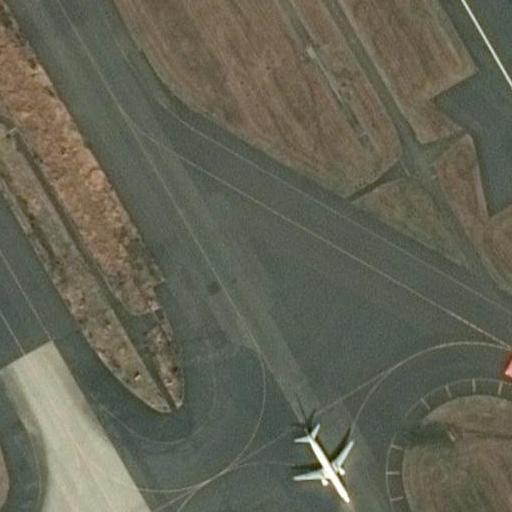Aircraft: (291, 421, 358, 503)
